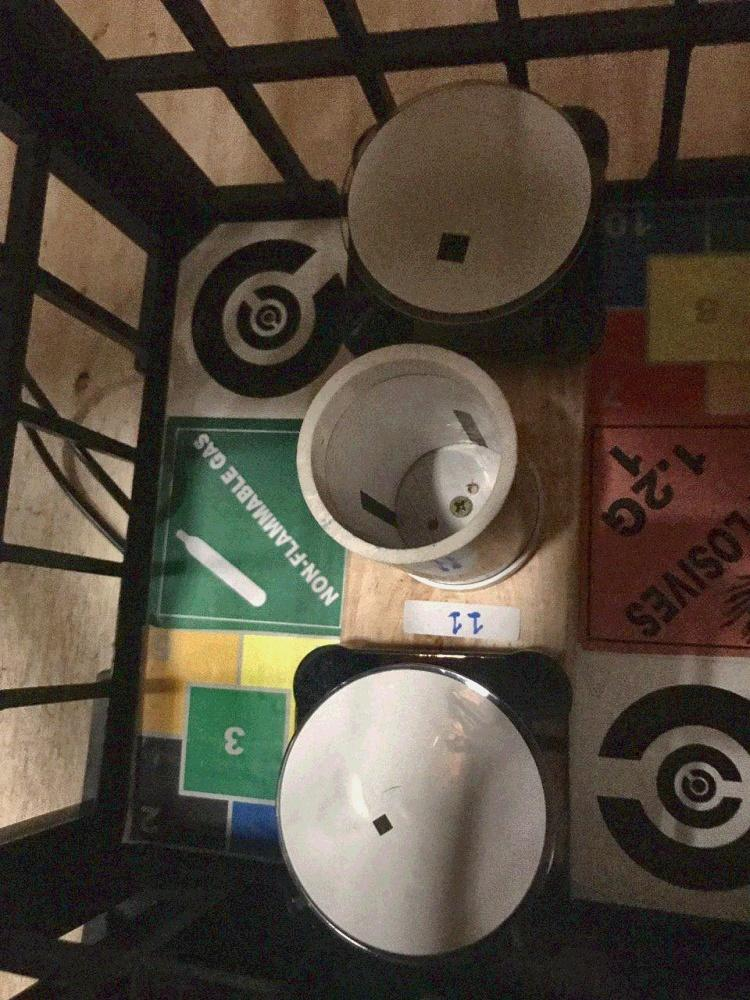explosive: (580, 423, 750, 648)
non-flammable-gas: (154, 418, 348, 635)
